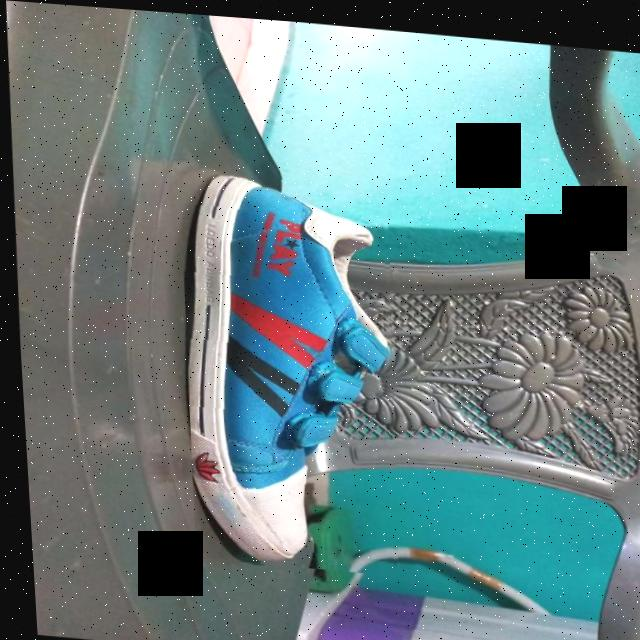shoe: (171, 166, 404, 571)
